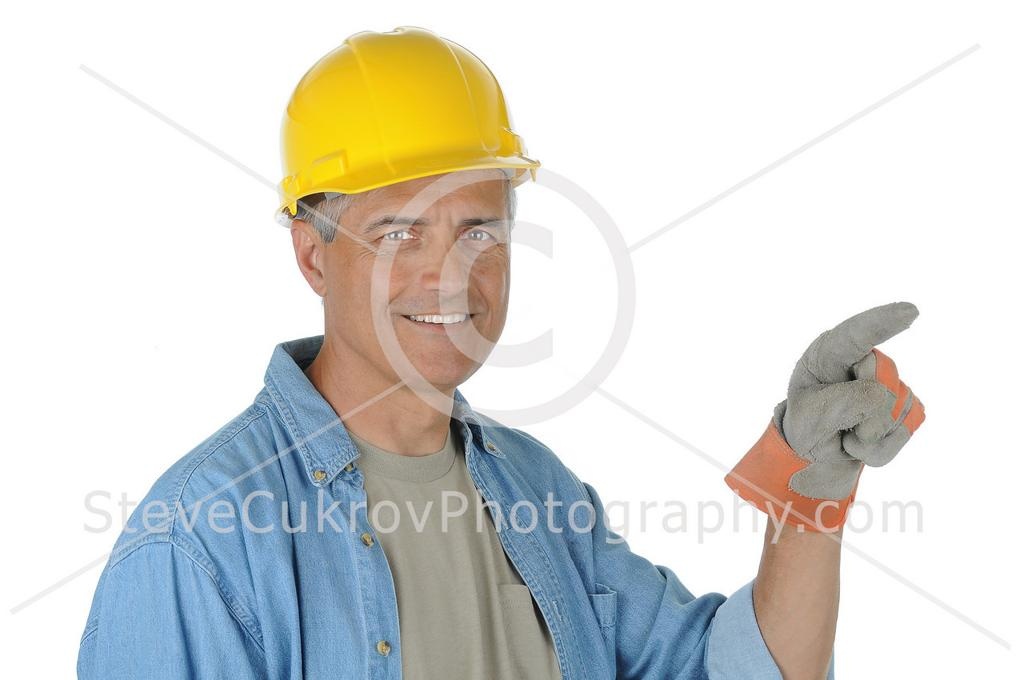face: (350, 146, 506, 366)
